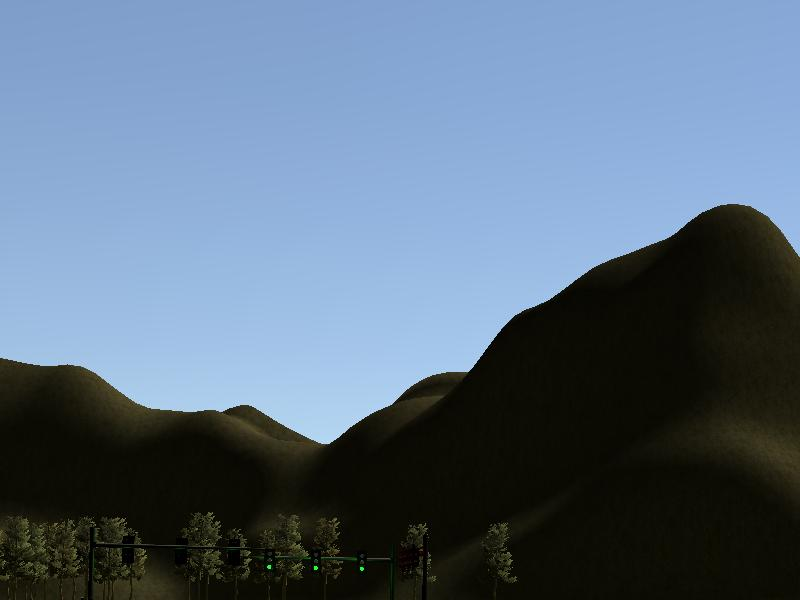Green: (265, 549, 276, 571), (352, 550, 363, 572), (313, 550, 324, 572)
